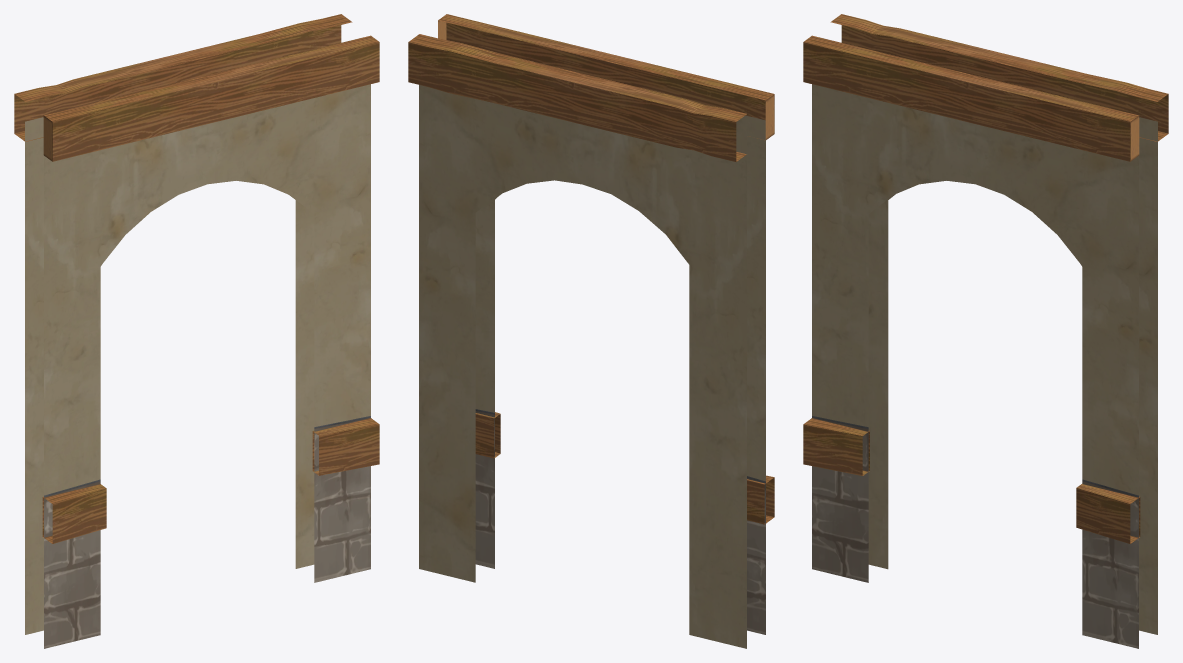
Rendered from Wall_Plaster_Door_Round.gltf.
3 renders of one model, left to right at view 1: azimuth 30°, elevation 25°; view 2: azimuth 150°, elevation 25°; view 3: azimuth 330°, elevation 25°, orthographic.
Visible parts, largest first — view 1: Wall_Plaster_Door_Round; view 2: Wall_Plaster_Door_Round; view 3: Wall_Plaster_Door_Round.
Boxes of the visible parts, x1,y1,x2,y2 form: Wall_Plaster_Door_Round: (14, 14, 379, 648); Wall_Plaster_Door_Round: (408, 14, 774, 648); Wall_Plaster_Door_Round: (803, 14, 1168, 648).
Bounding box in the file's own units: 2 × 3.12 × 0.4065.
3 materials, 3 textured.
